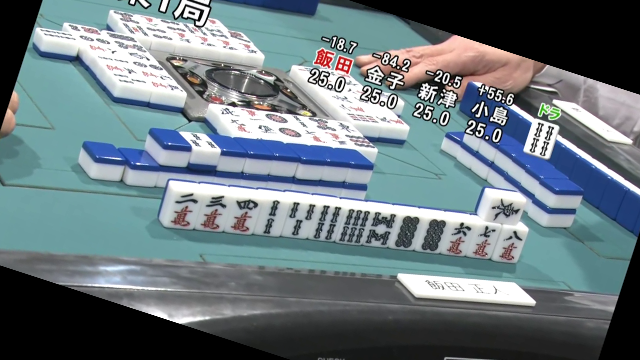Tehai: (161, 177, 520, 268)
